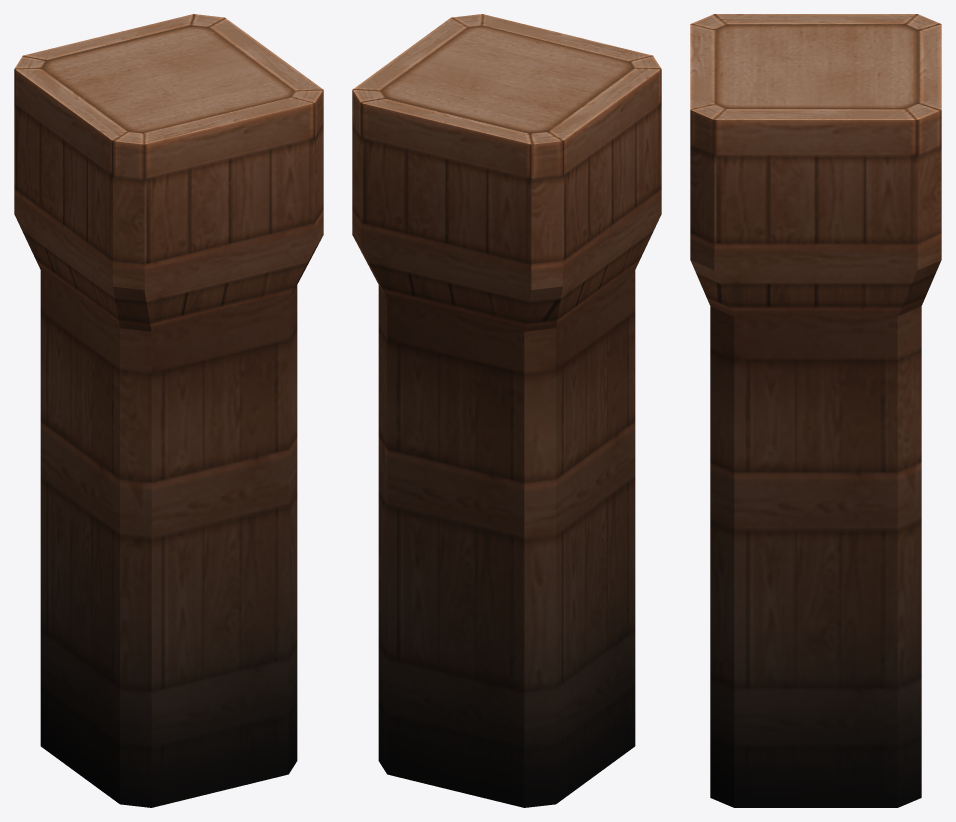
The model's file is GHmG_1_01.FBX.
The picture shows the model from 3 angles, left to right: view 1: azimuth 30°, elevation 25°; view 2: azimuth 150°, elevation 25°; view 3: azimuth 270°, elevation 25°; orthographic projection. The views are drawn at different scales.
Visible parts, largest first — view 1: Box03; view 2: Box03; view 3: Box03.
Part boxes in pixels (x1=…): Box03: x1=14, y1=14, x2=323, y2=807; Box03: x1=352, y1=14, x2=661, y2=807; Box03: x1=690, y1=14, x2=941, y2=807.
Size of the model in its own units: 2 by 6.12 by 2.
